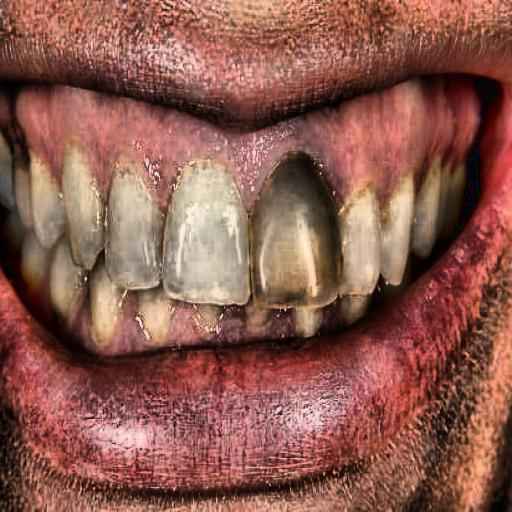Gingivitis: (10, 77, 470, 190)
